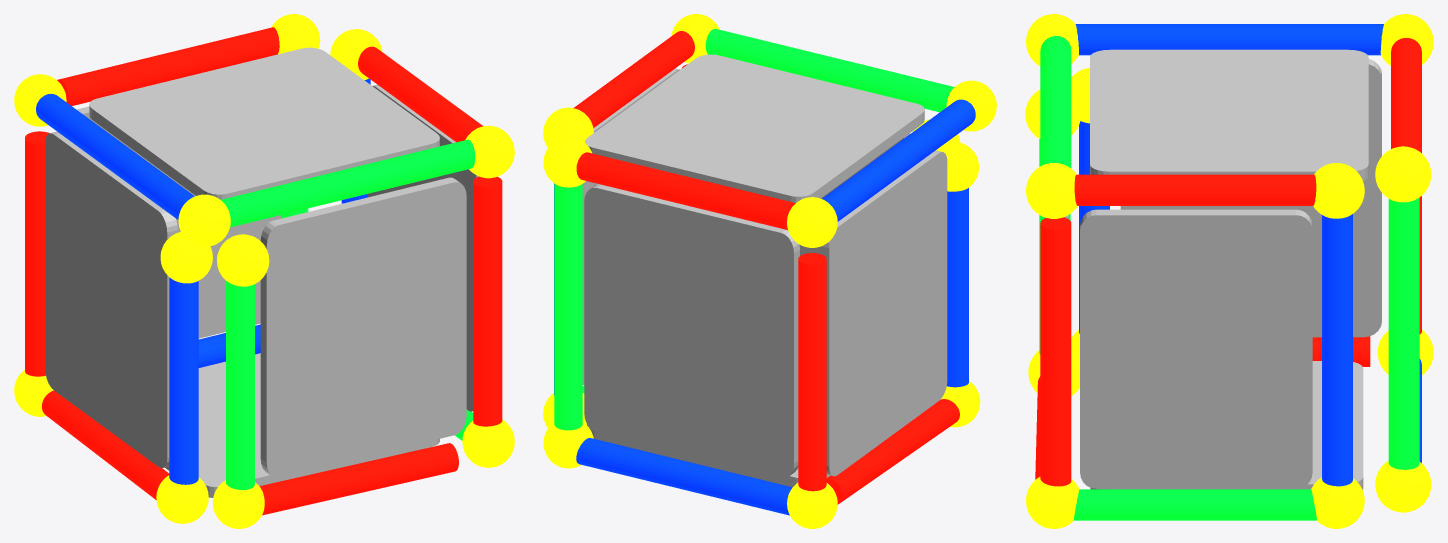
File: itemBox.fbx
3 renders of one model, left to right at view 1: azimuth 30°, elevation 25°; view 2: azimuth 150°, elevation 25°; view 3: azimuth 270°, elevation 25°, orthographic. The views are drawn at different scales.
Parts seen in each view (by area): view 1: Cube.039, Cube.037, Cylinder.034, Cube.035, Sphere.027, Cylinder.033, Cylinder.027, Cube.036, Cube.040, Cube.038; view 2: Cube.040, Cube.037, Cube.035, Cylinder.034, Cylinder.027, Sphere.027, Cylinder.033, Cube.036, Cube.038; view 3: Cube.038, Cube.035, Cylinder.034, Cylinder.033, Sphere.027, Cylinder.027, Cube.037, Cube.036.
Part boxes in pixels (x1=…): Cube.039: x1=260, y1=177, x2=466, y2=478; Cube.037: x1=45, y1=131, x2=177, y2=467; Cylinder.034: x1=25, y1=27, x2=502, y2=515; Cube.035: x1=89, y1=47, x2=439, y2=199; Sphere.027: x1=14, y1=14, x2=514, y2=528; Cylinder.033: x1=221, y1=139, x2=475, y2=490; Cylinder.027: x1=36, y1=78, x2=370, y2=484; Cube.036: x1=165, y1=353, x2=439, y2=497; Cube.040: x1=76, y1=106, x2=281, y2=338; Cube.038: x1=367, y1=84, x2=478, y2=411; Cube.040: x1=584, y1=184, x2=799, y2=477; Cube.037: x1=818, y1=150, x2=947, y2=476; Cube.035: x1=585, y1=54, x2=924, y2=203; Cylinder.034: x1=573, y1=31, x2=959, y2=504; Cylinder.027: x1=554, y1=99, x2=975, y2=515; Sphere.027: x1=543, y1=14, x2=996, y2=528; Cylinder.033: x1=554, y1=28, x2=954, y2=430; Cube.036: x1=587, y1=424, x2=830, y2=487; Cube.038: x1=582, y1=68, x2=679, y2=384; Cube.038: x1=1080, y1=209, x2=1312, y2=488; Cube.035: x1=1090, y1=49, x2=1368, y2=180; Cylinder.034: x1=1035, y1=38, x2=1421, y2=486; Cylinder.033: x1=1039, y1=36, x2=1419, y2=520; Sphere.027: x1=1025, y1=14, x2=1433, y2=528; Cylinder.027: x1=1075, y1=24, x2=1421, y2=486; Cube.037: x1=1120, y1=59, x2=1381, y2=337; Cube.036: x1=1090, y1=361, x2=1363, y2=489.
Size of the model in its own units: 1500 by 1531 by 1537.
